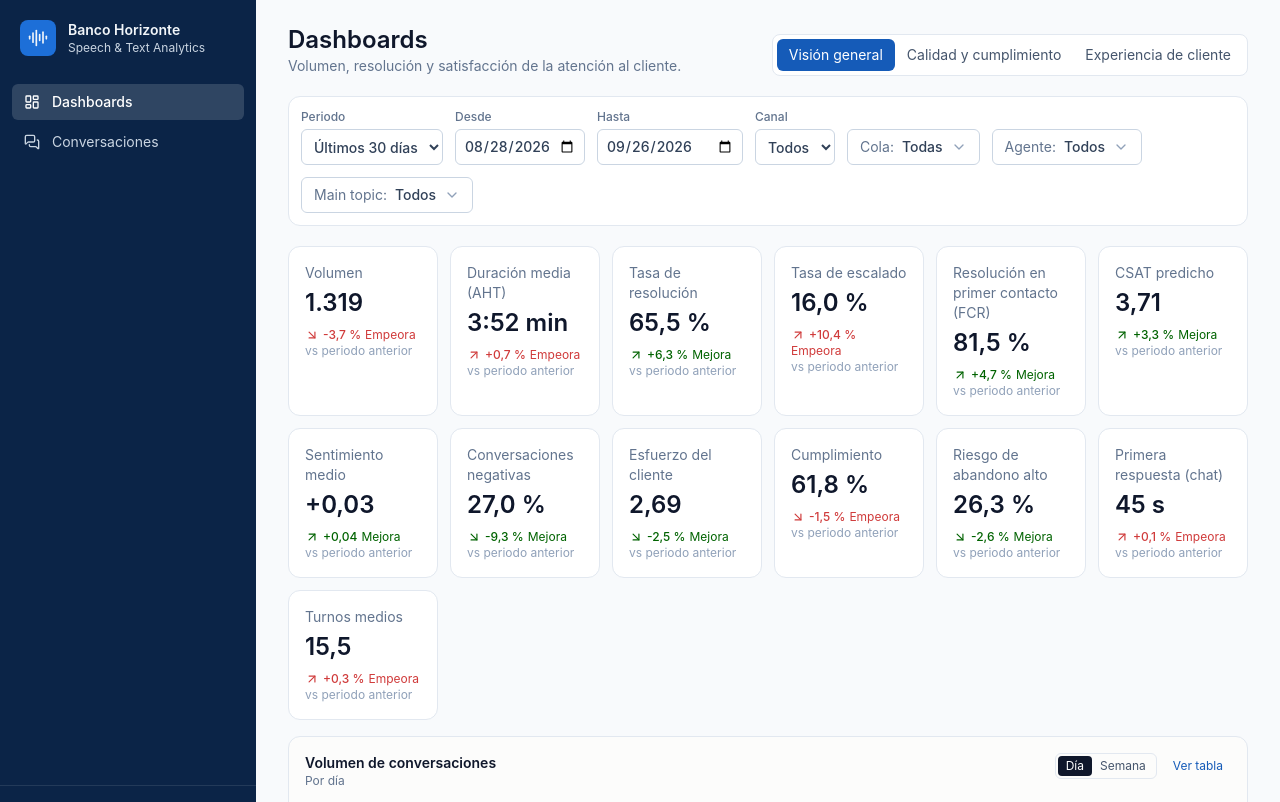
Test: Taxonomía y modelo por defecto › un main topic desactivado no se ofrece en el filtro del dashboard
The image size is (1280, 802).
Click the button "Main topic: Todos" at [387, 195], box [301, 177, 473, 213]
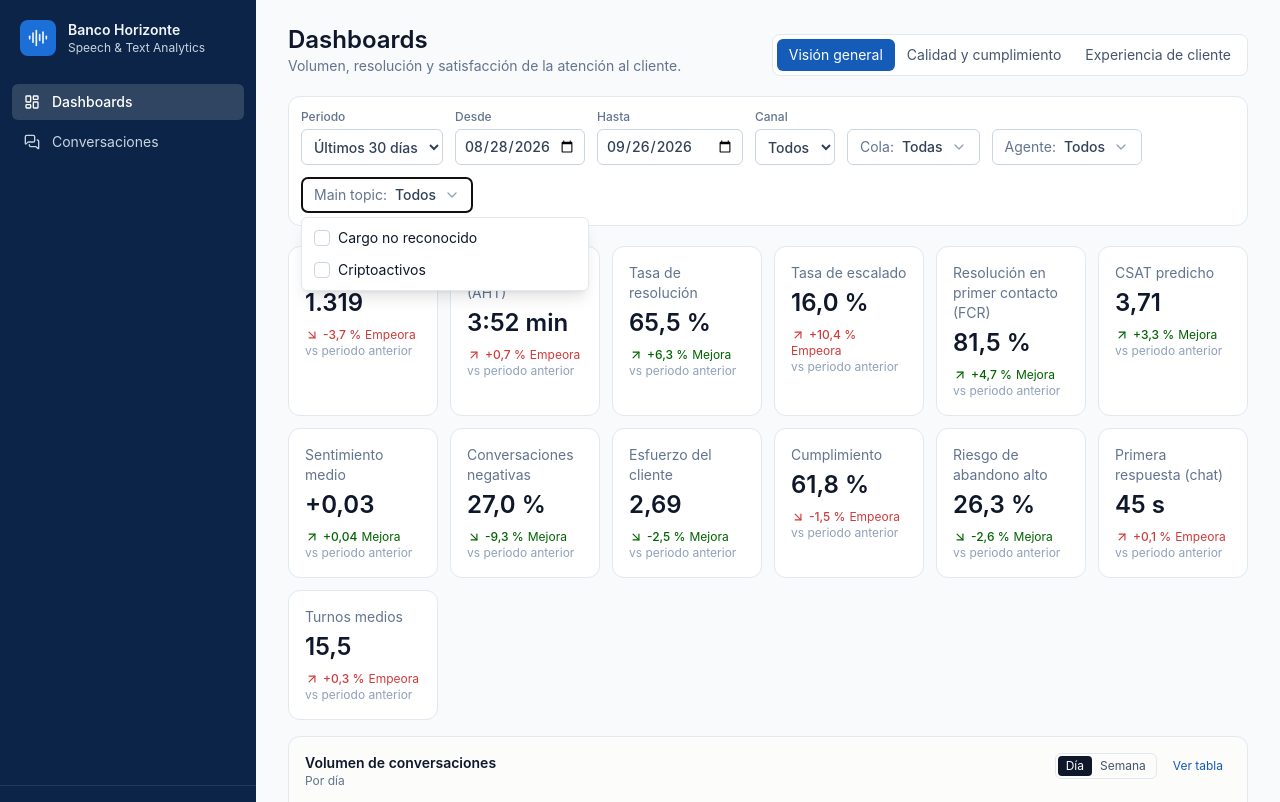
Check: the checkbox labelled "Criptoactivos" is shown, box [314, 261, 426, 278]
